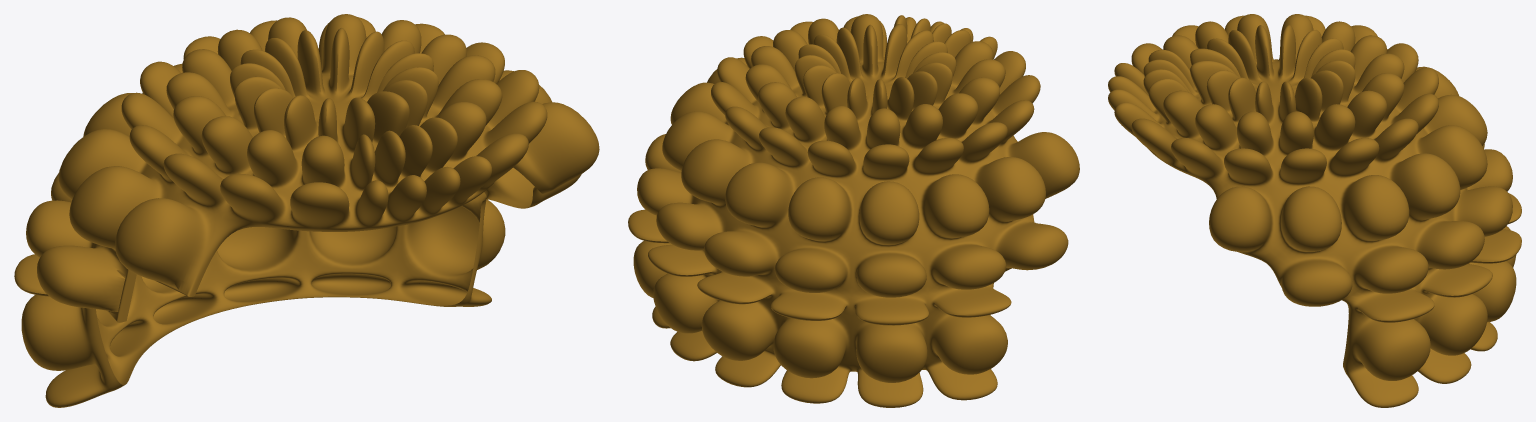
File: short dreads h.fbx
3 views of the same model, side by side, from view 1: azimuth 30°, elevation 25°; view 2: azimuth 150°, elevation 25°; view 3: azimuth 270°, elevation 25° (orthographic). The views are drawn at different scales.
Visible parts, largest first — view 1: Short_dreads; view 2: Short_dreads; view 3: Short_dreads.
Part boxes in pixels (x1,y1,x2,y2): Short_dreads: (14,14,599,407); Short_dreads: (628,14,1079,407); Short_dreads: (1108,14,1521,407).
Bounding box in the file's own units: 34.96 × 21.38 × 29.6.
